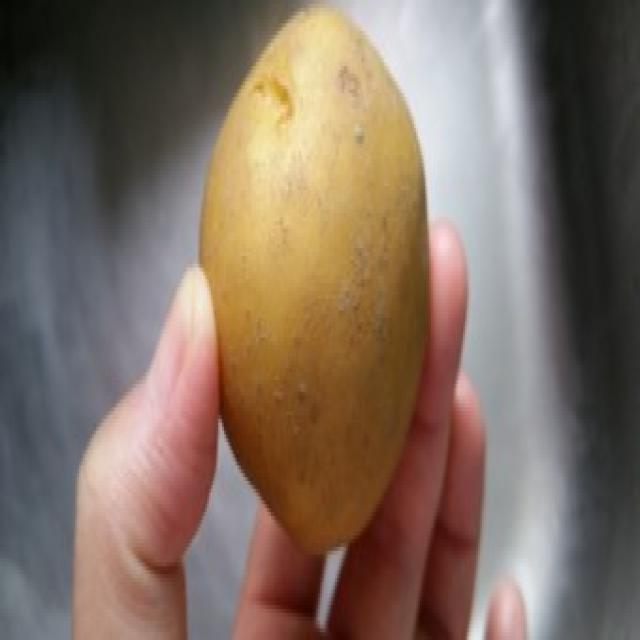potato: (195, 0, 433, 559)
